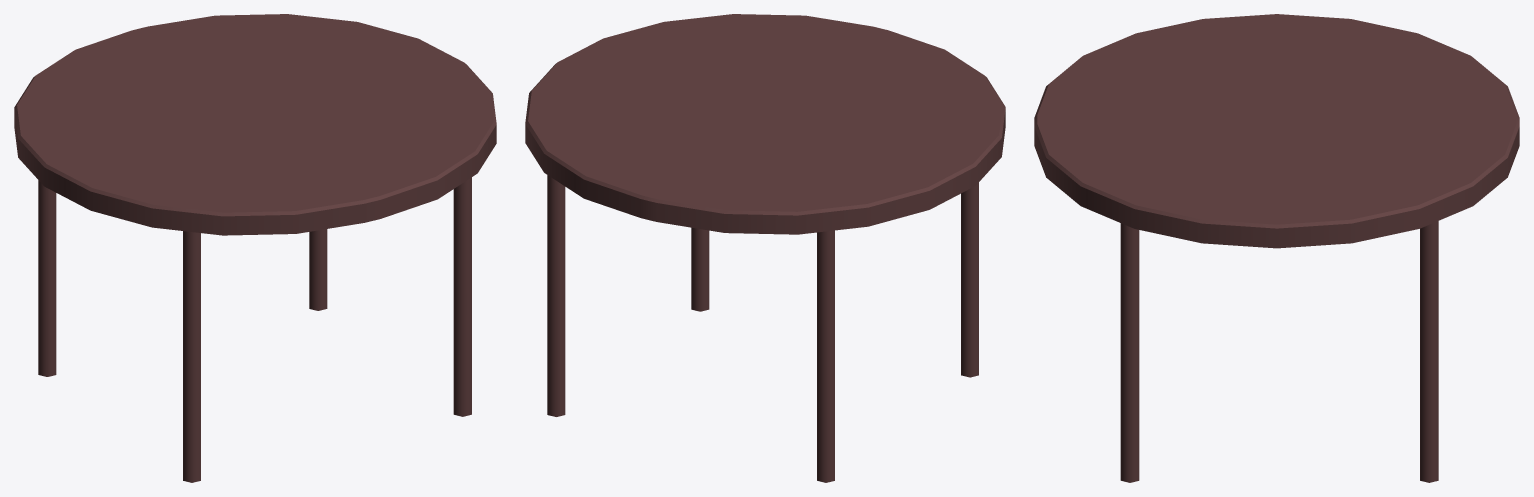
File: table4.obj
3 renders of one model, left to right at view 1: azimuth 30°, elevation 25°; view 2: azimuth 150°, elevation 25°; view 3: azimuth 270°, elevation 25°, orthographic. The views are drawn at different scales.
Visible parts, largest first — view 1: table4; view 2: table4; view 3: table4.
Part boxes in pixels (bbox=[...]): table4: bbox=[14, 14, 496, 482]; table4: bbox=[525, 14, 1005, 482]; table4: bbox=[1034, 14, 1519, 482].
Size of the model in its own units: 0.9636 by 0.6117 by 0.9273.
